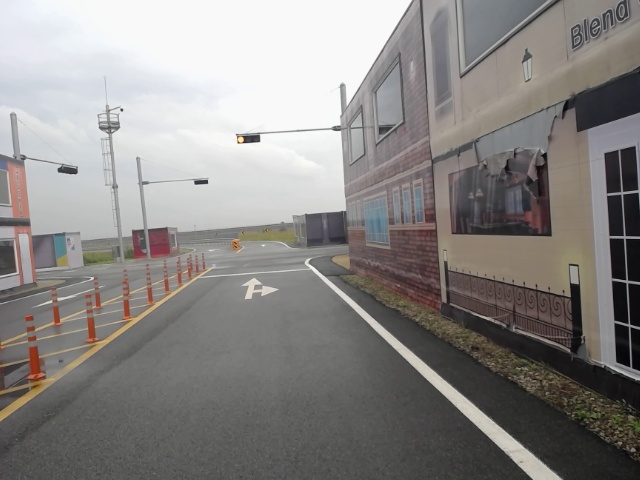red_3: (236, 134, 260, 144)
